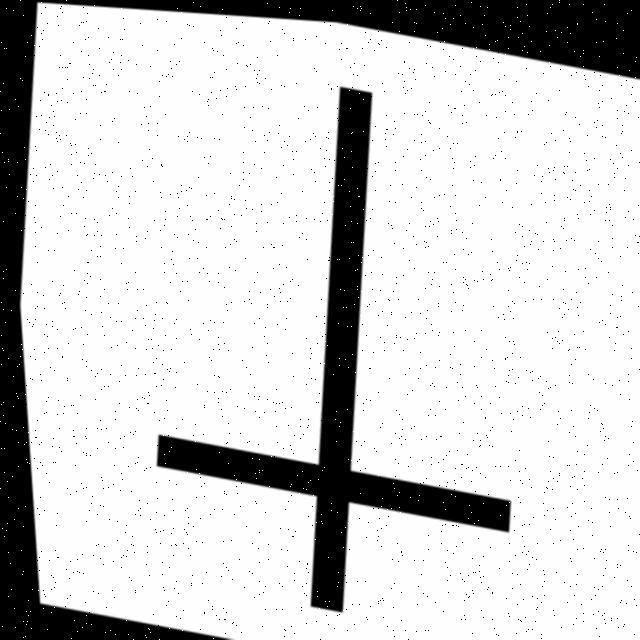cross: (137, 341, 578, 640)
